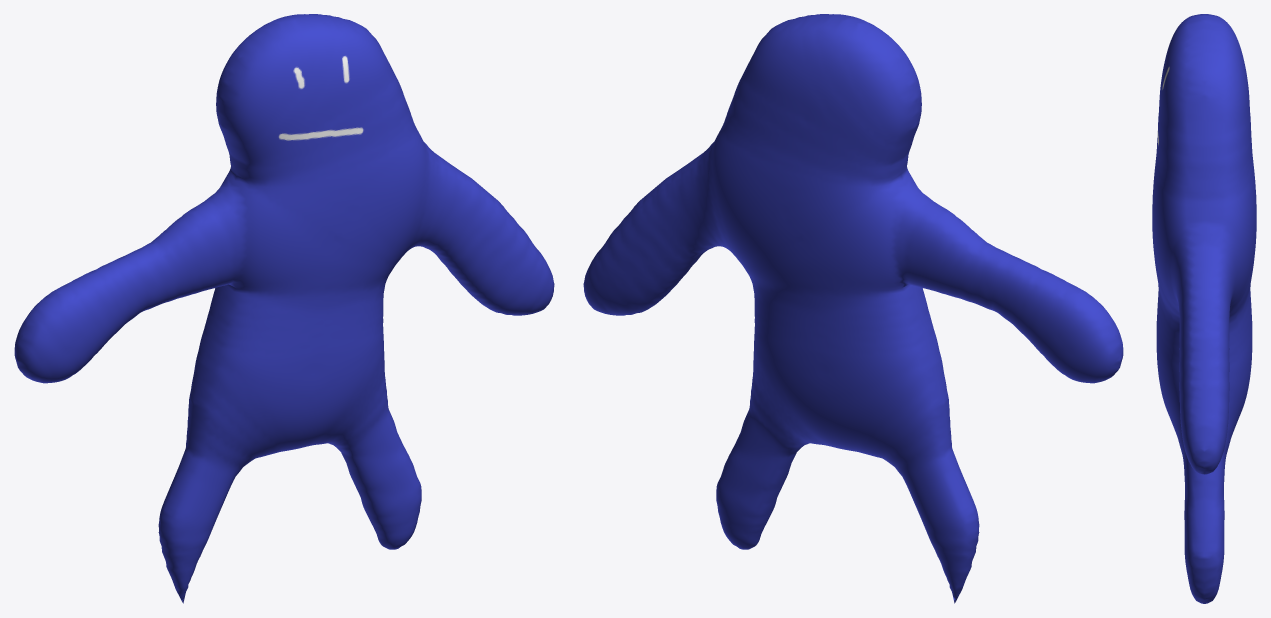
The model's file is Bleu.glb.
3 renders of one model, left to right at view 1: azimuth 30°, elevation 25°; view 2: azimuth 150°, elevation 25°; view 3: azimuth 270°, elevation 25°, orthographic. The views are drawn at different scales.
Parts seen in each view (by area): view 1: mesh_id26; view 2: mesh_id26; view 3: mesh_id26.
Boxes of the visible parts, <box> form: mesh_id26: <box>14,14,554,603</box>; mesh_id26: <box>583,14,1123,603</box>; mesh_id26: <box>1152,14,1256,603</box>.
Size of the model in its own units: 0.4951 by 0.4938 by 0.0867.
Materials: 1 (1 with a texture image).
